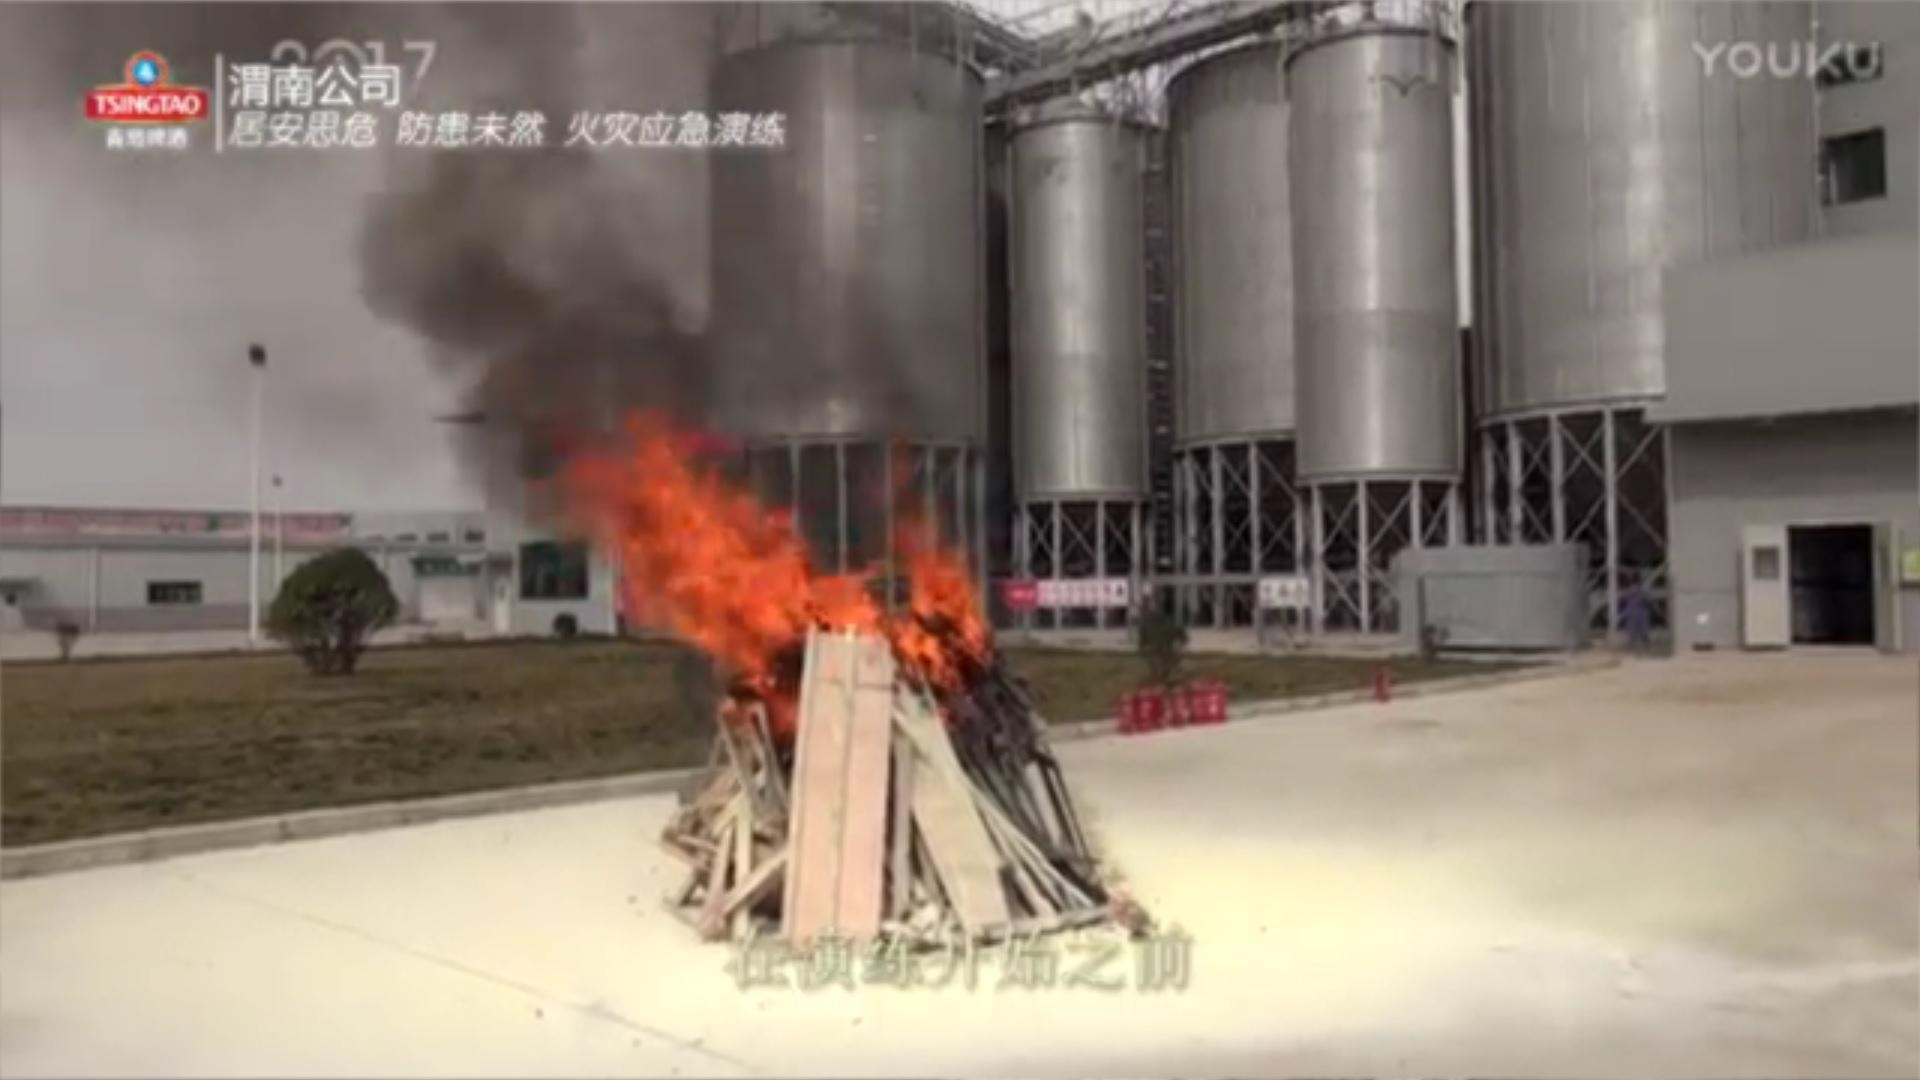fire: (562, 419, 997, 688)
